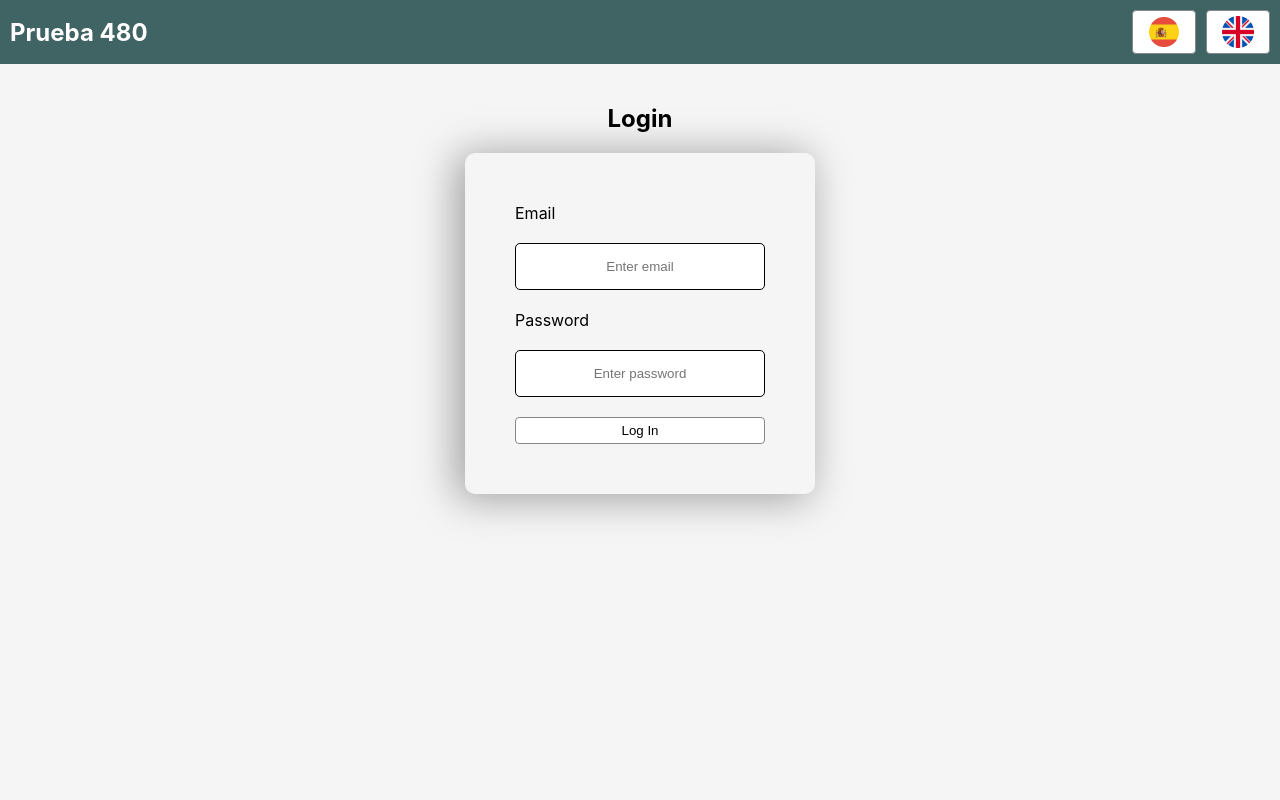
it: Contact › should be a disabled button when the inputs has not info
The width and height of the screenshot is (1280, 800).
Expected: the heading "Login" is shown, [608,104,672,133]
Step 1. Type "prueba@email.com" into the field labelled "Email" → (640, 266), box [515,243,765,290]
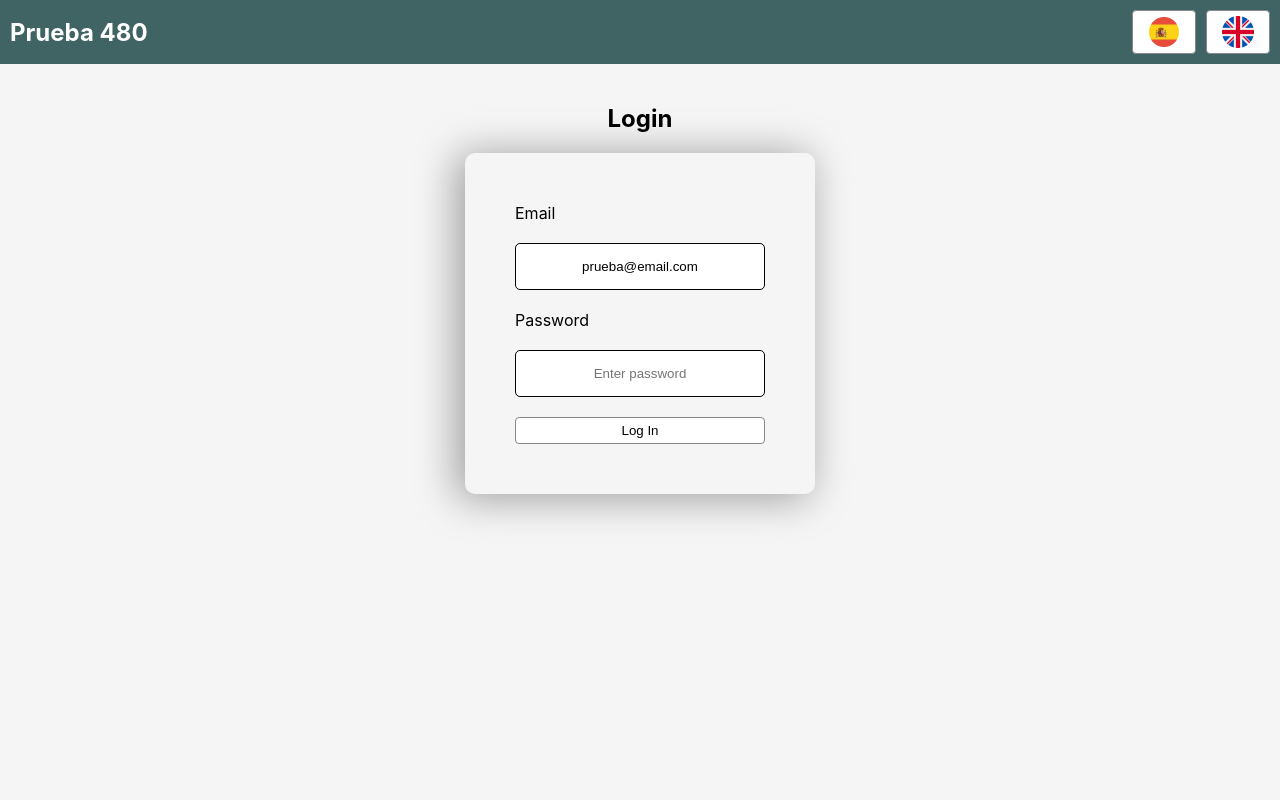
Step 2. Type "******" into the password field labelled "Password" → (640, 374), box [515,350,765,397]
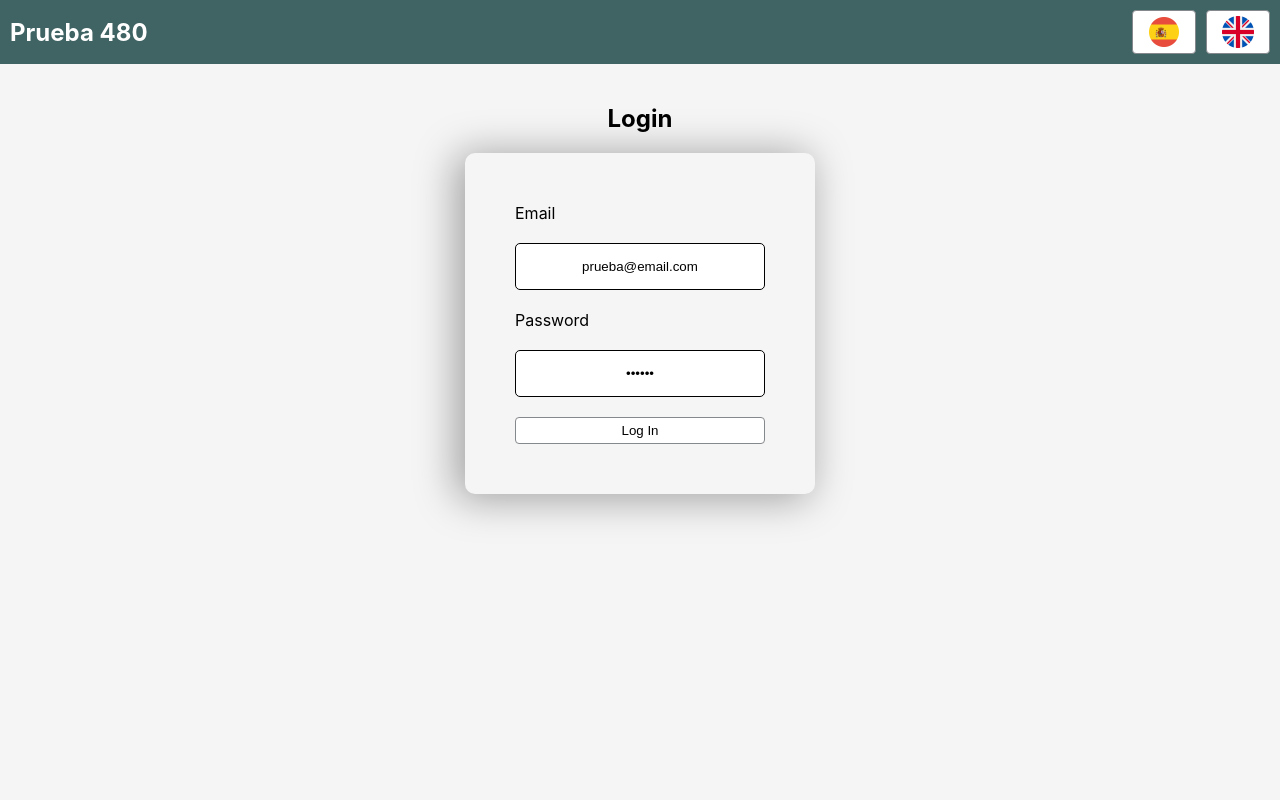
Step 3. Click the button "Log In" → (640, 430), box [515,417,765,444]
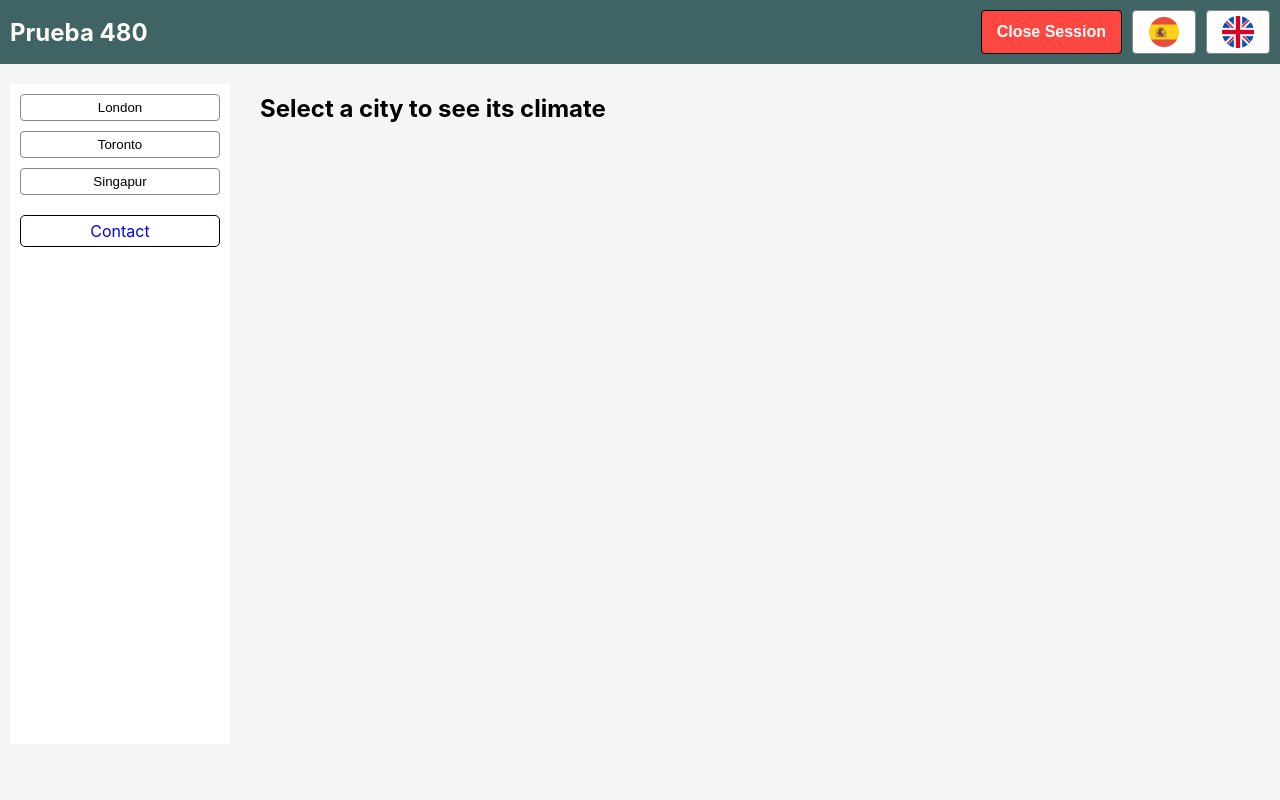
Step 4. Click the link "Contact" → (120, 231), box [20,215,220,247]
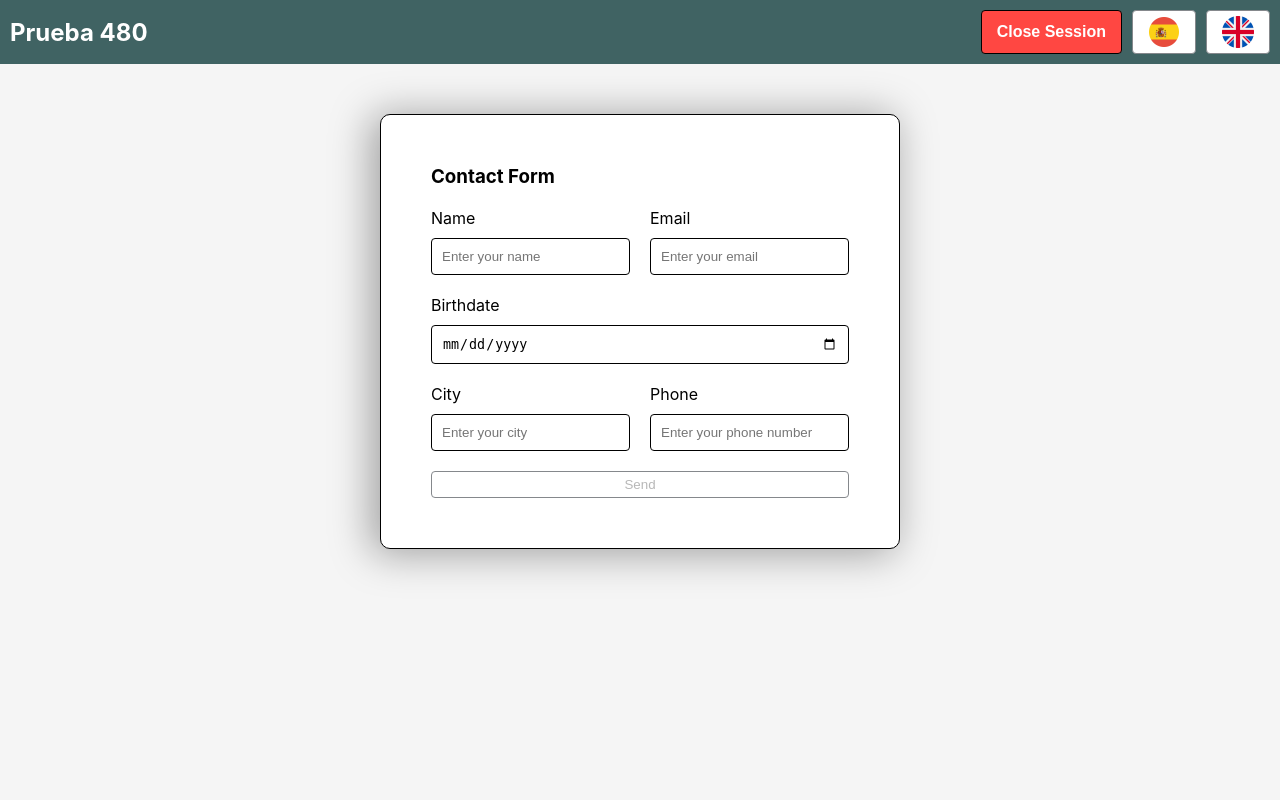
Now the heading "Contact Form" is shown, box [431,165,555,188]
Now the button "Send" is disabled, box [431,471,849,498]
